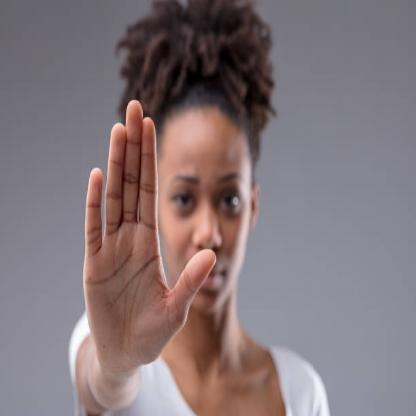stop: (79, 95, 219, 376)
